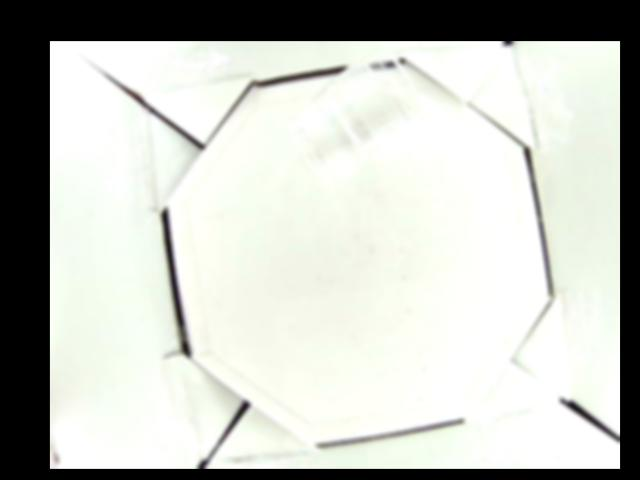Cup: (291, 50, 430, 181)
